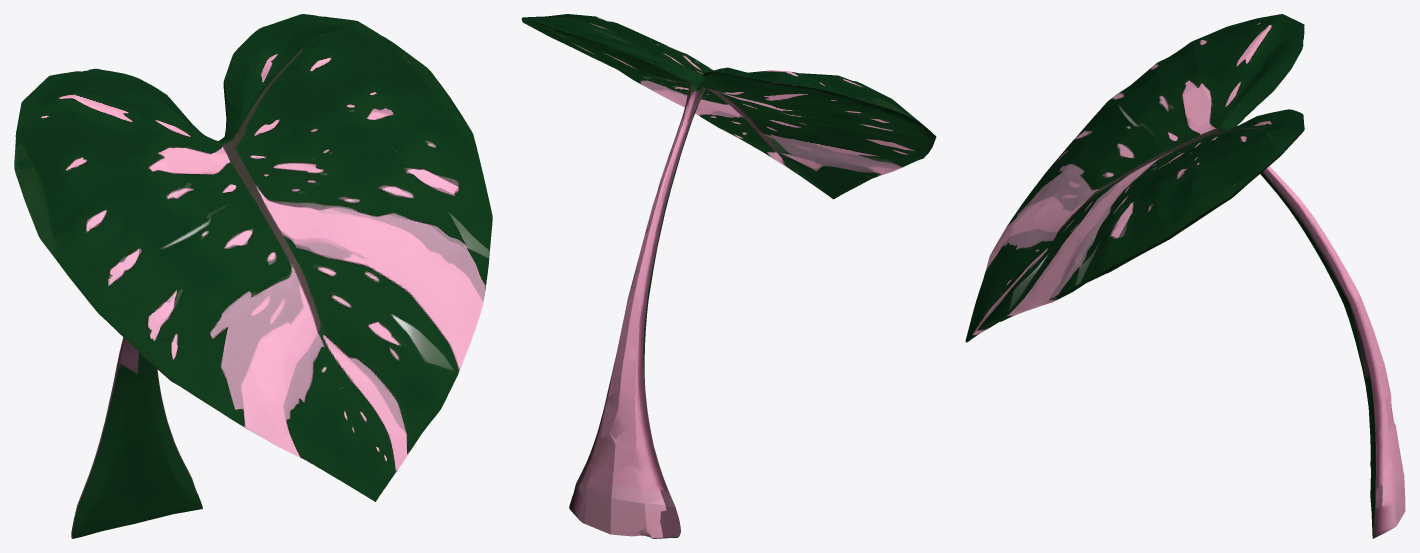
File: pp_leaf_mature.glb
The picture shows the model from 3 angles, left to right: view 1: azimuth 30°, elevation 25°; view 2: azimuth 150°, elevation 25°; view 3: azimuth 270°, elevation 25°; orthographic projection. The views are drawn at different scales.
Size of the model in its own units: 1.68 by 1.9 by 1.74.
Materials: 1 (1 with a texture image).
